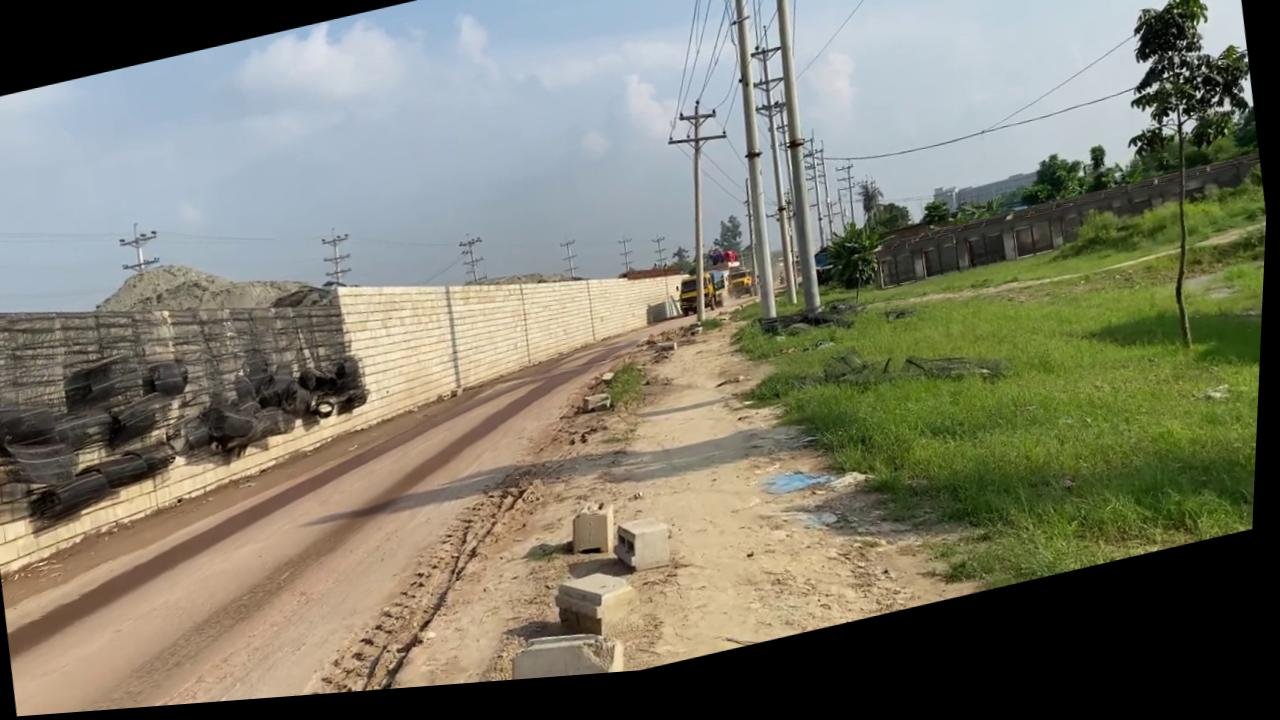Garbage: (0, 301, 384, 535)
Obstacle: (509, 627, 635, 689), (556, 571, 647, 653), (616, 521, 680, 585), (570, 508, 626, 570)
Pole: (744, 0, 851, 330), (701, 0, 804, 339), (657, 104, 757, 339)
Traffic-sign: (1100, 0, 1278, 376)
Tree: (703, 251, 762, 317), (674, 279, 728, 329), (726, 276, 760, 312), (706, 253, 744, 284)
Upstairs: (0, 153, 728, 573)
